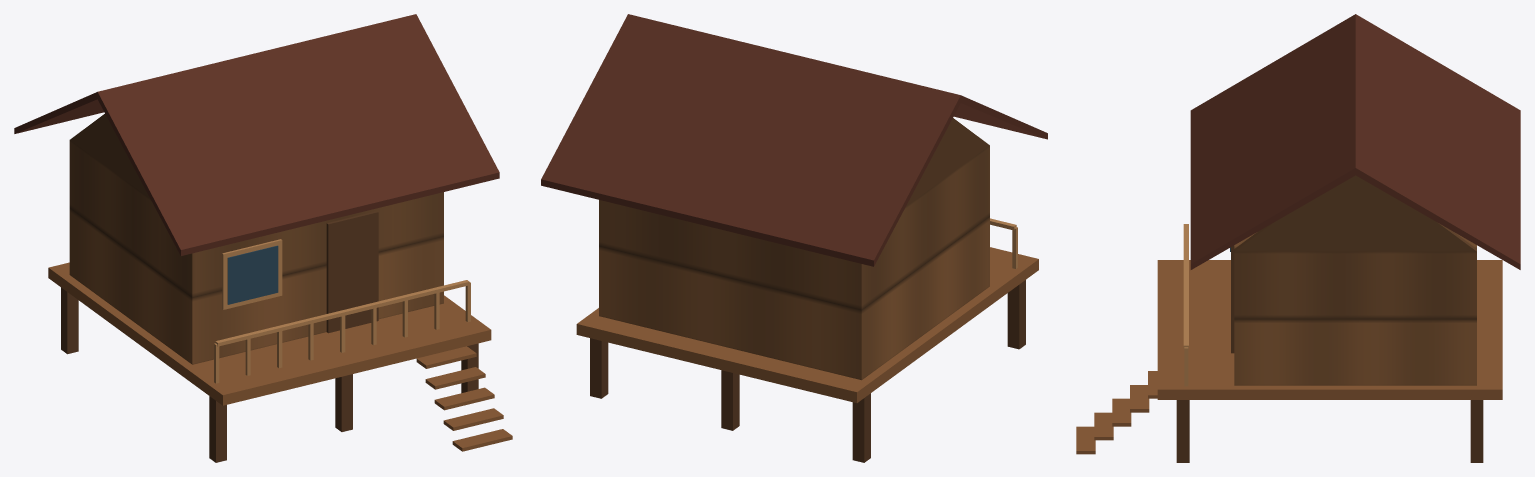
The model's file is prop_rumah_panggung.glb.
3 views of the same model, side by side, from view 1: azimuth 30°, elevation 25°; view 2: azimuth 150°, elevation 25°; view 3: azimuth 270°, elevation 25° (orthographic). The views are drawn at different scales.
Visible parts, largest first — view 1: rumah_panggung; view 2: rumah_panggung; view 3: rumah_panggung.
Part boxes in pixels (x1,y1,x2,y2): rumah_panggung: (14, 14, 512, 462); rumah_panggung: (541, 14, 1047, 462); rumah_panggung: (1076, 14, 1520, 462).
Bounding box in the file's own units: 5.7 × 5.33 × 6.95.
Materials: 6 (2 with a texture image).
